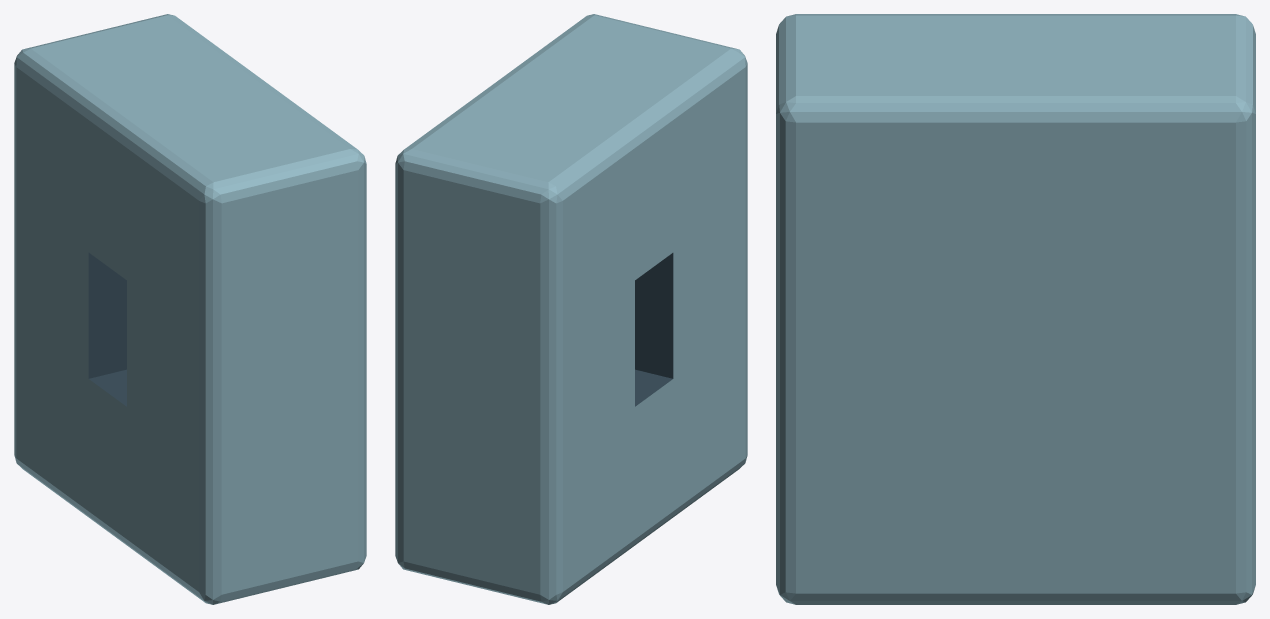
The picture shows the model from 3 angles, left to right: view 1: azimuth 30°, elevation 25°; view 2: azimuth 150°, elevation 25°; view 3: azimuth 270°, elevation 25°; orthographic projection. The views are drawn at different scales.
Visible parts, largest first — view 1: geometry_0; view 2: geometry_0; view 3: geometry_0.
Part boxes in pixels (left/top/right/bottom): geometry_0: left=14, top=14, right=366, bottom=604; geometry_0: left=395, top=14, right=747, bottom=604; geometry_0: left=776, top=14, right=1255, bottom=604.
Size of the model in its own units: 0.0115 by 0.028 by 0.024.
1 material, 1 textured.
